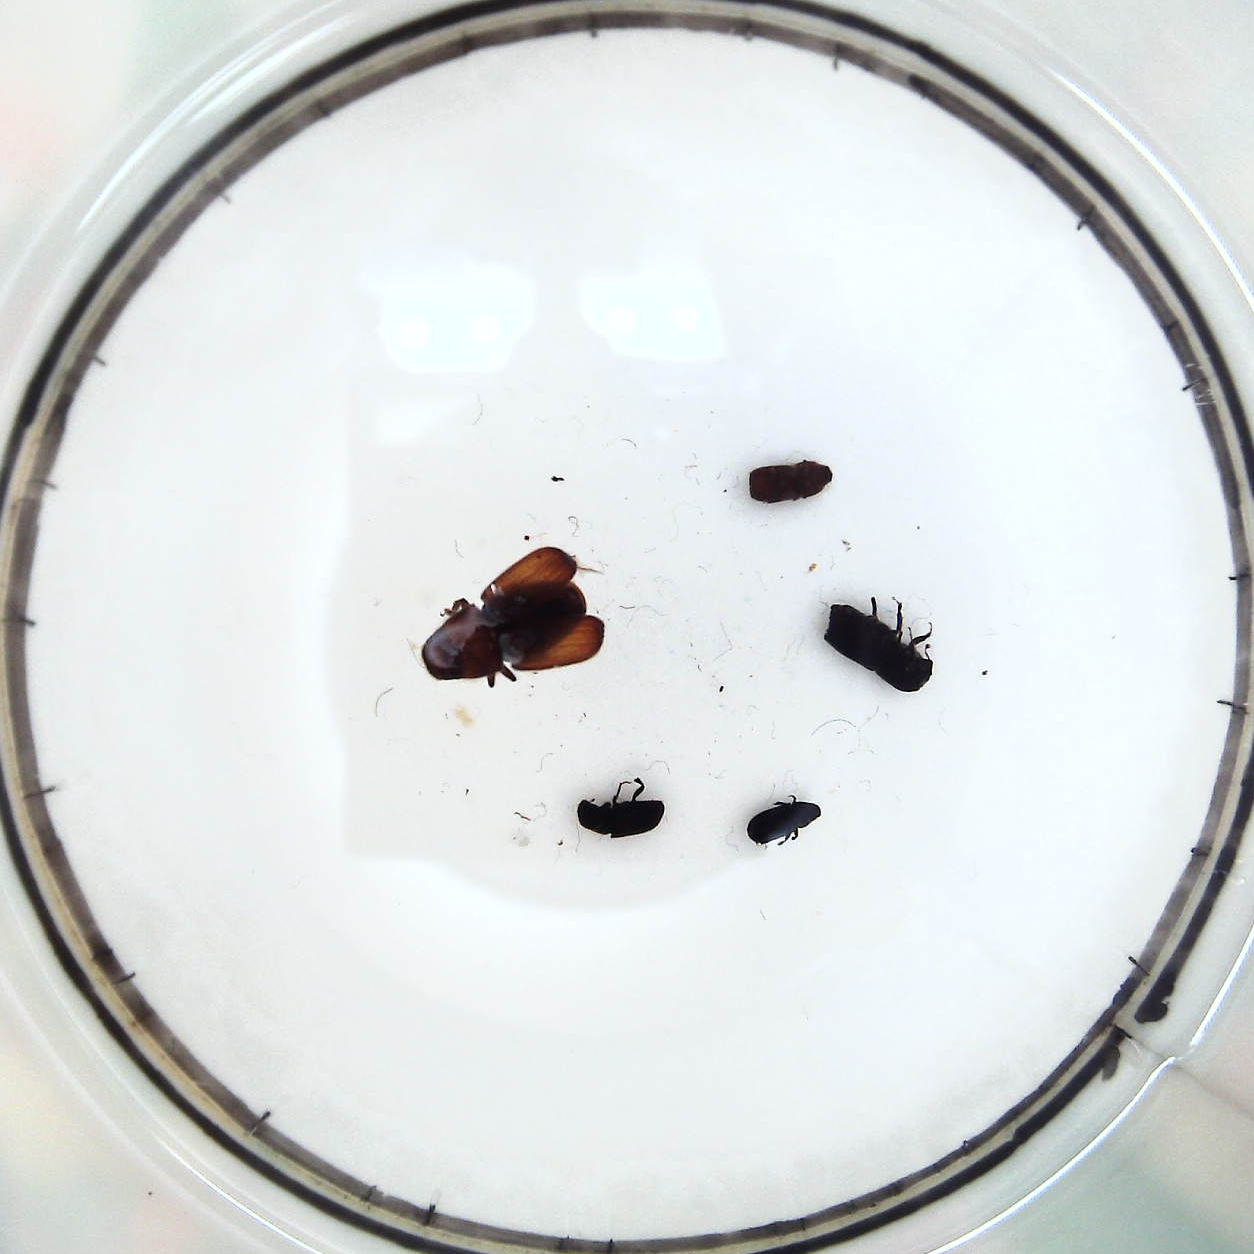Boerner: (827, 598, 936, 697)
Leconte: (417, 545, 606, 681)
Linnaeus: (746, 457, 833, 504)
armandi: (576, 791, 666, 839)
coleoptera: (743, 798, 818, 846)
